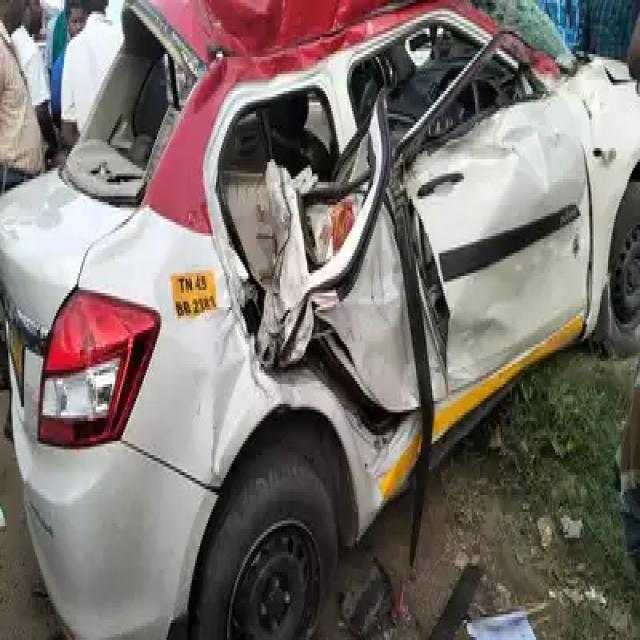crush: (60, 0, 594, 512)
